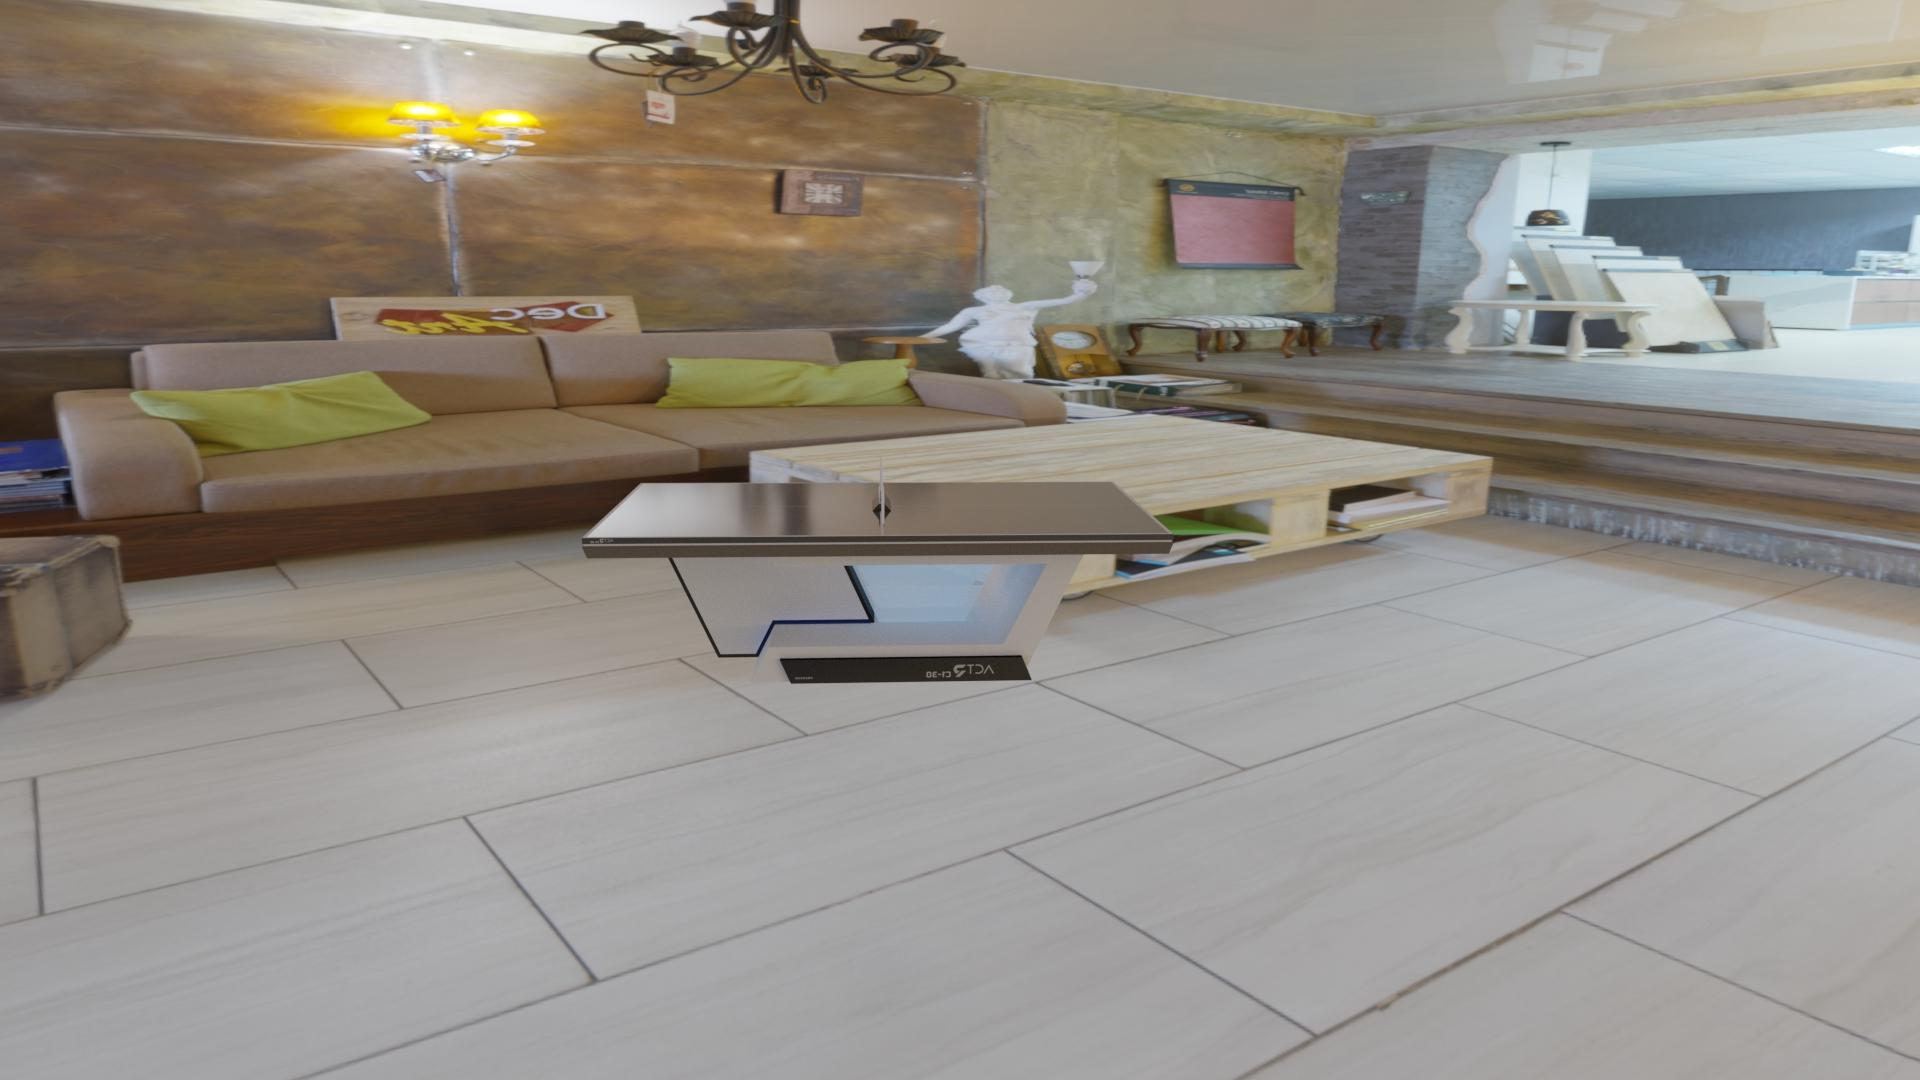table: (587, 481, 1168, 537)
